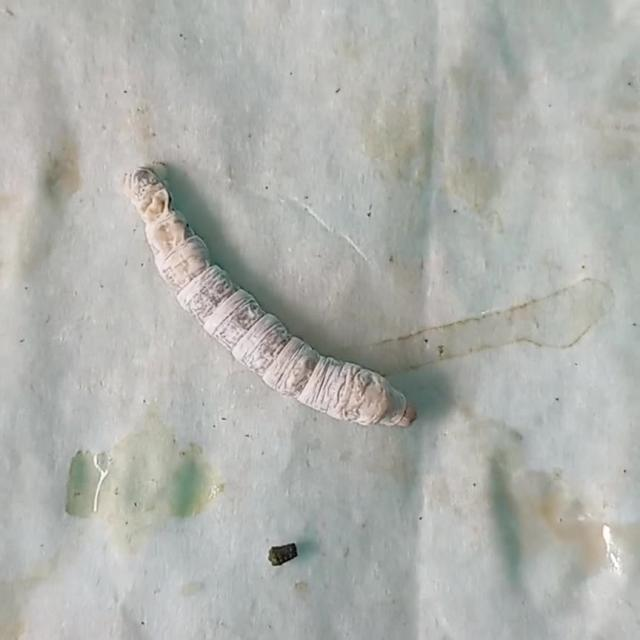Grasserie: (92, 126, 456, 467)
